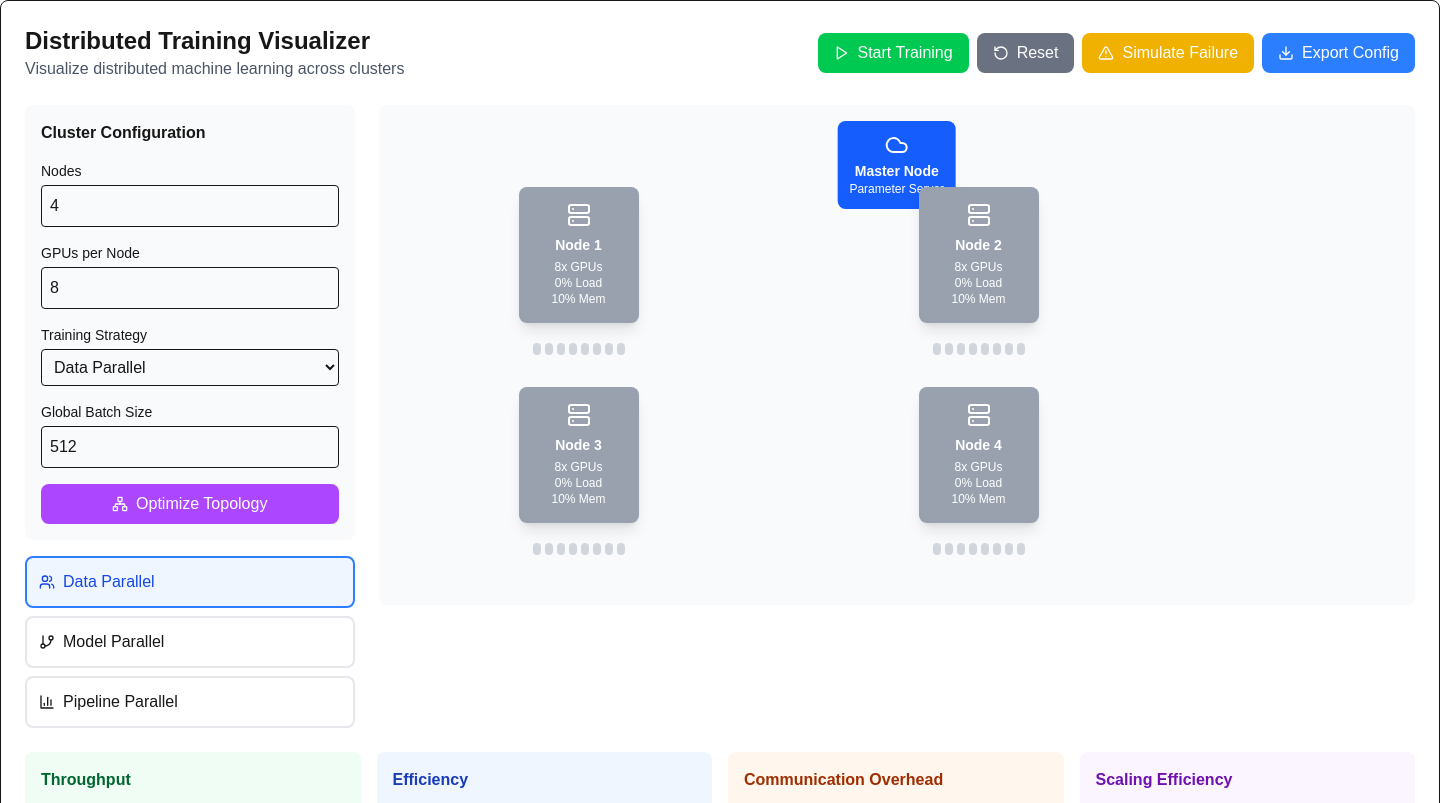
Test: DistributedTrainingVisualizer › displays network topology optimization
Click the button "Optimize Topology": point(190, 504) 41,484 -> 338,524
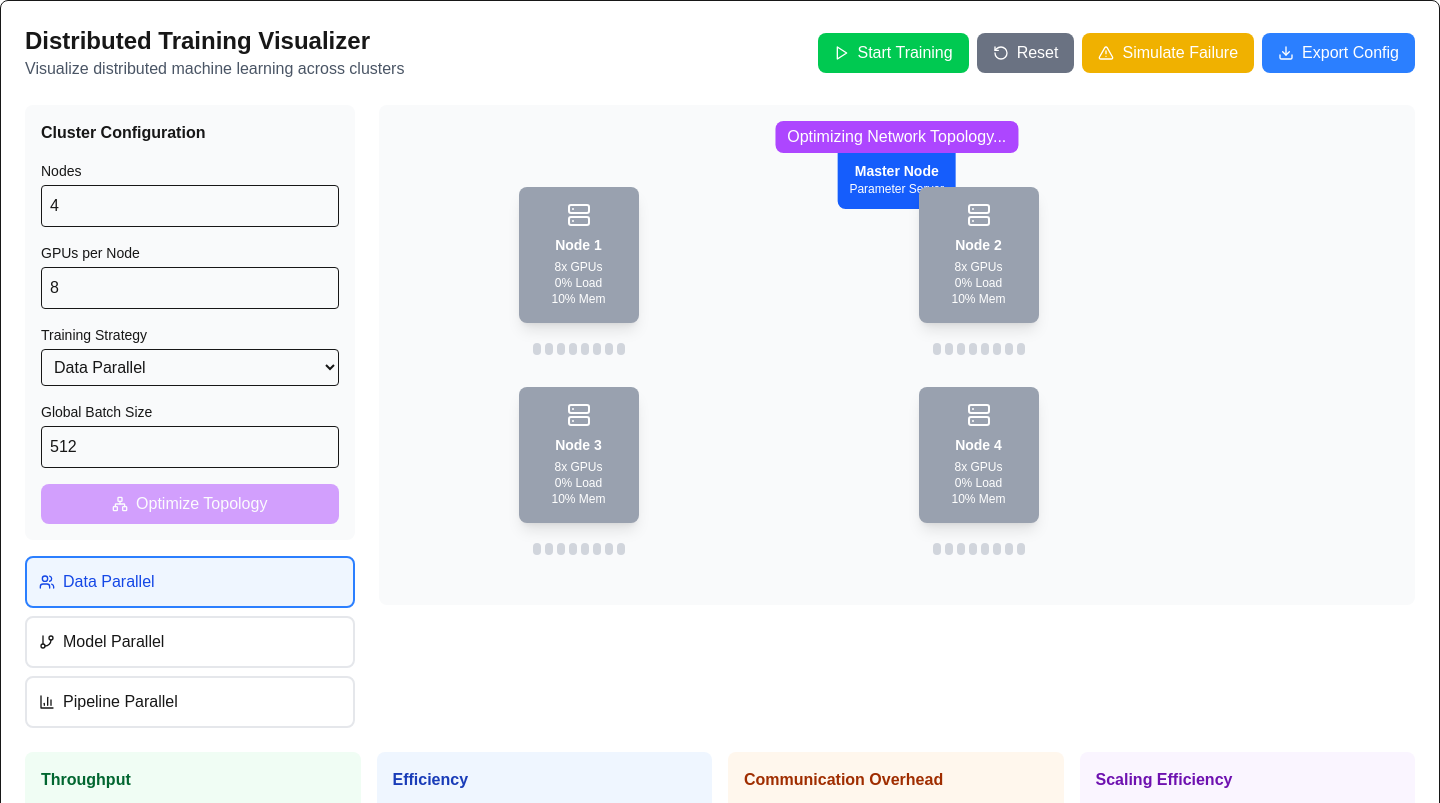
Check: the text "Optimizing Network Topology..." is shown, box 775,121 -> 1018,153
